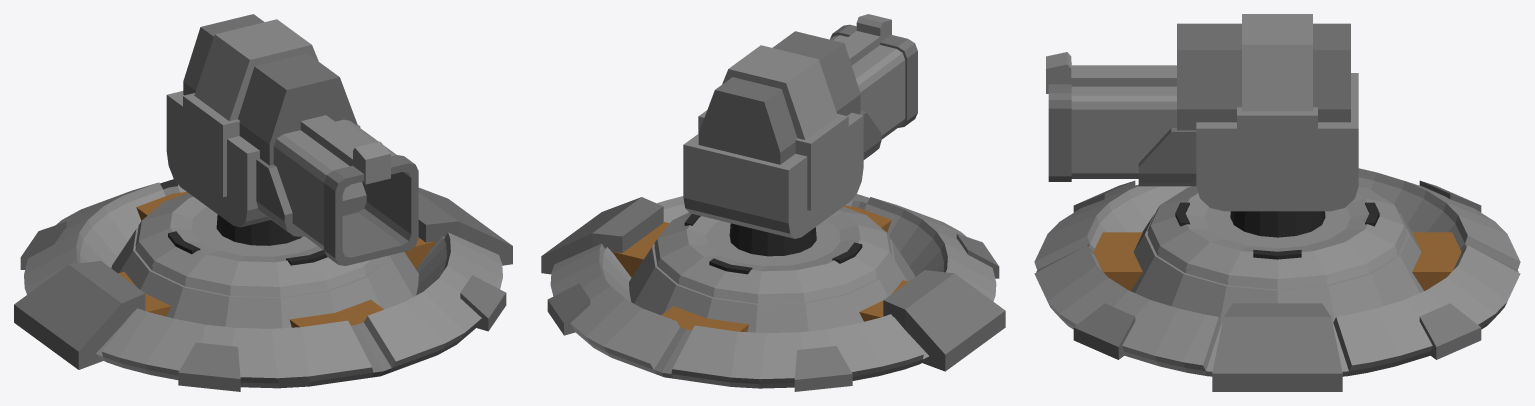
The model's file is Turret Cannon.glb.
The picture shows the model from 3 angles, left to right: view 1: azimuth 30°, elevation 25°; view 2: azimuth 150°, elevation 25°; view 3: azimuth 270°, elevation 25°; orthographic projection. The views are drawn at different scales.
Parts seen in each view (by area): view 1: Turret Cannon; view 2: Turret Cannon; view 3: Turret Cannon.
Boxes of the visible parts, left/top/right/bottom form: Turret Cannon: left=14, top=14, right=512, bottom=391; Turret Cannon: left=541, top=14, right=1005, bottom=391; Turret Cannon: left=1034, top=14, right=1520, bottom=391.
Size of the model in its own units: 0.8108 by 0.453 by 0.7802.
